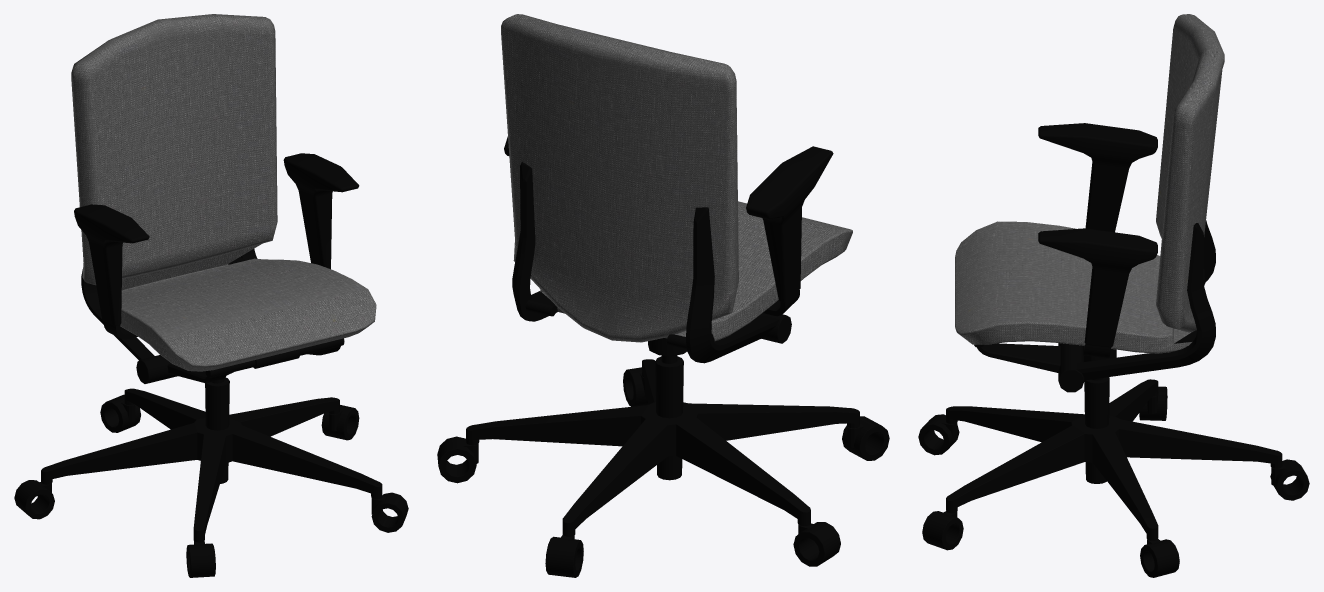
Rendered from office_chair_1_low_poly.glb.
The picture shows the model from 3 angles, left to right: view 1: azimuth 30°, elevation 25°; view 2: azimuth 150°, elevation 25°; view 3: azimuth 270°, elevation 25°; orthographic projection. The views are drawn at different scales.
Parts seen in each view (by area): view 1: SediaUfficio_01_0; view 2: SediaUfficio_01_0; view 3: SediaUfficio_01_0.
Boxes of the visible parts, left/top/right/bottom form: SediaUfficio_01_0: left=14, top=14, right=408, bottom=577; SediaUfficio_01_0: left=437, top=14, right=889, bottom=577; SediaUfficio_01_0: left=918, top=14, right=1309, bottom=577.
Size of the model in its own units: 0.8951 by 1.09 by 0.8625.
2 materials, 1 textured.
